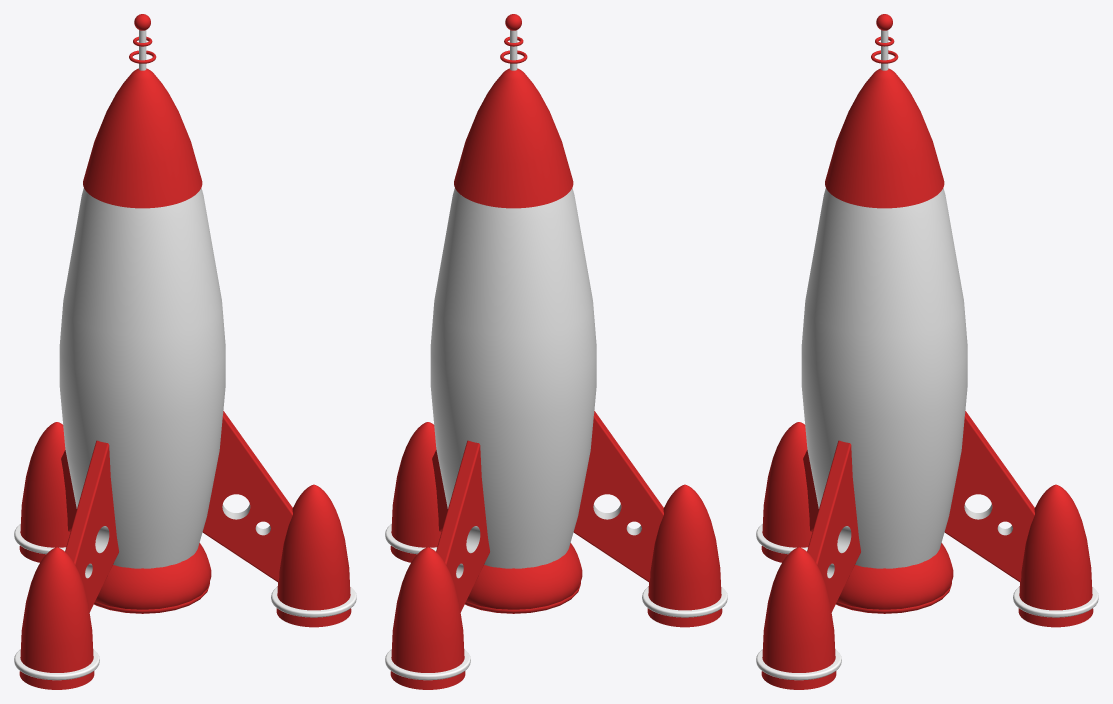
File: rocketExportTest.dae
3 renders of one model, left to right at view 1: azimuth 30°, elevation 25°; view 2: azimuth 150°, elevation 25°; view 3: azimuth 270°, elevation 25°, orthographic.
Visible parts, largest first — view 1: Lathe, engine (×3), Lathe.1, Cap_2, Lathe.2, Cap_1 (×2), Cylinder (×2), houder; view 2: Lathe, engine (×3), Lathe.1, Cap_2, Lathe.2, Cap_1 (×2), Cylinder (×2), houder; view 3: Lathe, engine (×3), Lathe.1, Cap_2, Lathe.2, Cap_1 (×2), Cylinder (×2), houder.
Boxes of the visible parts, bbox=[...] form: Lathe: bbox=[59, 188, 225, 568]; engine (×3): bbox=[19, 422, 351, 689]; Lathe.1: bbox=[83, 68, 202, 208]; Cap_2: bbox=[203, 418, 292, 581]; Lathe.2: bbox=[94, 543, 211, 613]; Cap_1 (×2): bbox=[61, 446, 118, 611]; Cylinder (×2): bbox=[14, 586, 356, 680]; houder: bbox=[66, 440, 107, 561]; Lathe: bbox=[430, 188, 596, 568]; engine (×3): bbox=[390, 422, 722, 689]; Lathe.1: bbox=[454, 68, 573, 208]; Cap_2: bbox=[574, 418, 663, 581]; Lathe.2: bbox=[465, 543, 582, 613]; Cap_1 (×2): bbox=[432, 446, 489, 611]; Cylinder (×2): bbox=[385, 586, 727, 680]; houder: bbox=[437, 440, 478, 561]; Lathe: bbox=[801, 188, 967, 568]; engine (×3): bbox=[761, 422, 1093, 689]; Lathe.1: bbox=[825, 68, 944, 208]; Cap_2: bbox=[945, 418, 1034, 581]; Lathe.2: bbox=[836, 543, 953, 613]; Cap_1 (×2): bbox=[803, 446, 860, 611]; Cylinder (×2): bbox=[756, 586, 1098, 680]; houder: bbox=[808, 440, 849, 561].
Bounding box in the file's own units: 2321 × 3997 × 2080.
